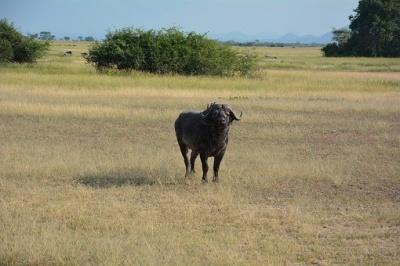buffalo: (174, 102, 242, 181)
